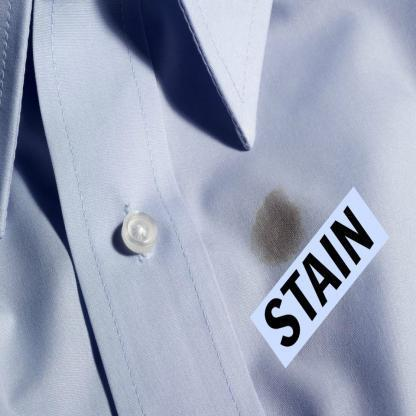coffee: (251, 193, 305, 260)
